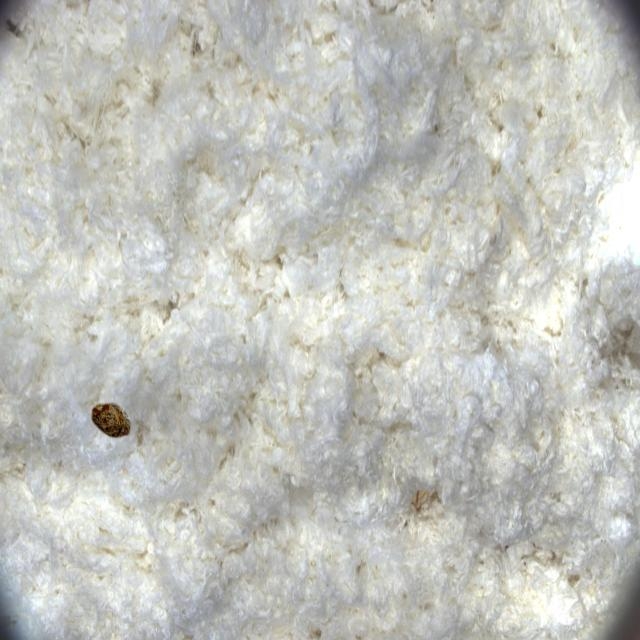dust: (79, 368, 155, 483)
